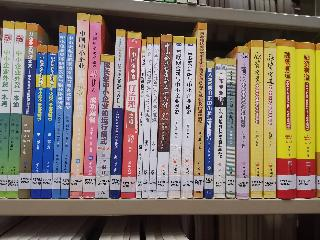book-spine: (67, 13, 92, 199), (3, 21, 28, 197), (82, 13, 102, 199), (17, 23, 38, 198), (276, 40, 298, 198), (28, 44, 49, 200), (295, 43, 316, 198), (121, 30, 140, 199), (109, 29, 127, 200), (39, 45, 58, 200), (167, 36, 185, 198), (95, 55, 115, 199), (0, 20, 16, 199), (156, 33, 173, 199), (60, 26, 76, 200), (192, 23, 207, 199), (248, 40, 264, 199), (181, 36, 196, 198), (53, 26, 66, 200), (264, 41, 278, 198), (236, 46, 250, 200), (141, 37, 154, 199), (213, 58, 227, 199), (202, 62, 215, 199), (224, 57, 236, 200), (136, 38, 146, 199), (150, 38, 160, 198)
